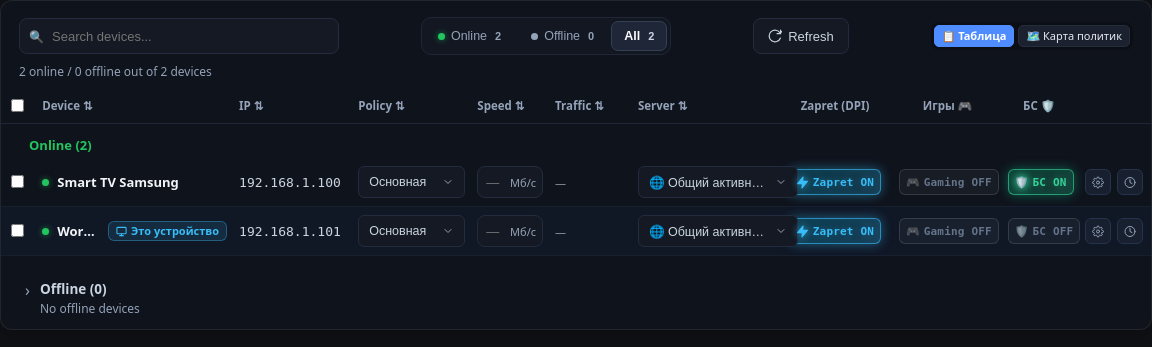
Scenario: Devices Component — Per-Device Zapret DPI (Feature 3) › anti-regression: cleanly toggles OFF whitelist mode for active device (is_whitelist: true) without lock
Click to toggle OFF
Click the button with class "device-whitelist-btn" showing "🛡️ БС ON". click: (1041, 182)
box: [1008,169,1074,195]
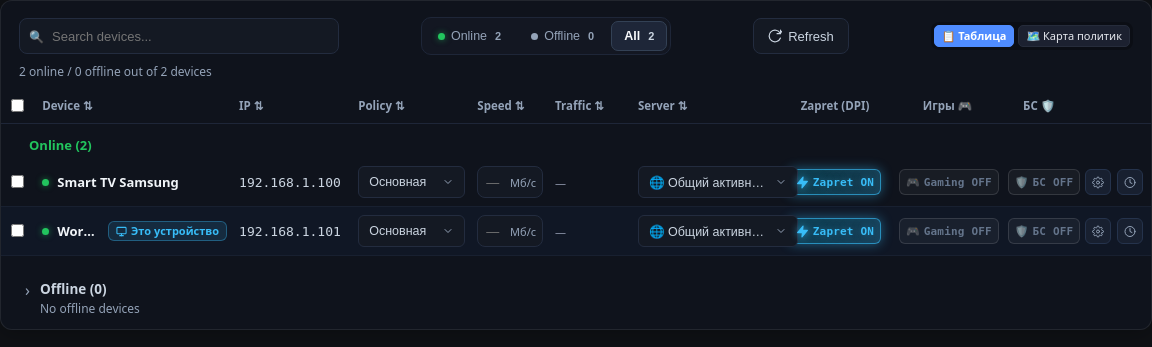
expect the button with class "device-whitelist-btn" shows "БС OFF": met, box [1008,169,1080,195]
